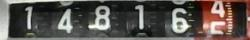digits: (209, 0, 227, 35), (87, 4, 111, 30), (170, 7, 192, 33), (57, 8, 73, 33), (134, 4, 143, 29), (24, 6, 33, 30)
